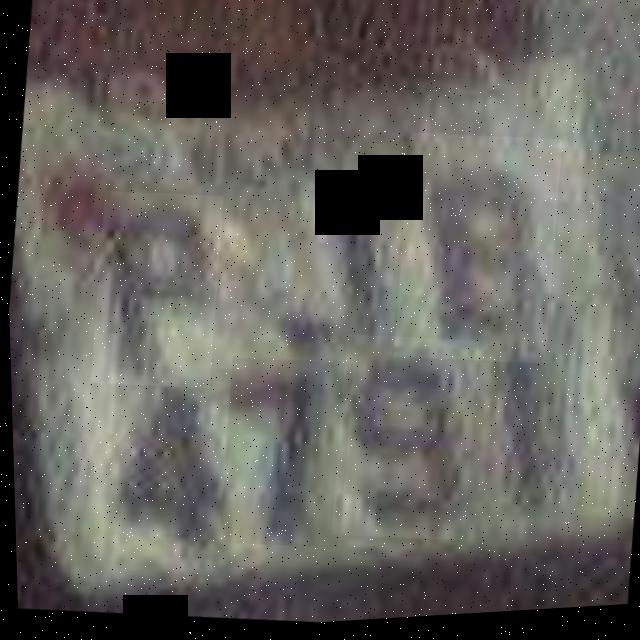4: (94, 360, 247, 579)
7: (211, 355, 354, 557)
9: (324, 333, 481, 553)
B: (386, 130, 566, 377)
P: (84, 186, 228, 396)
